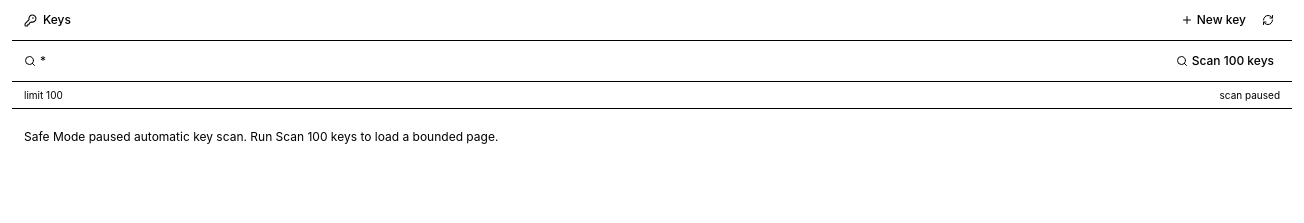
Test: KvSidebar › keeps loaded keys visible when loading the next SCAN cursor fails
Click the button "Scan 100 keys".
click(1225, 61)  # box [1170,49,1280,73]
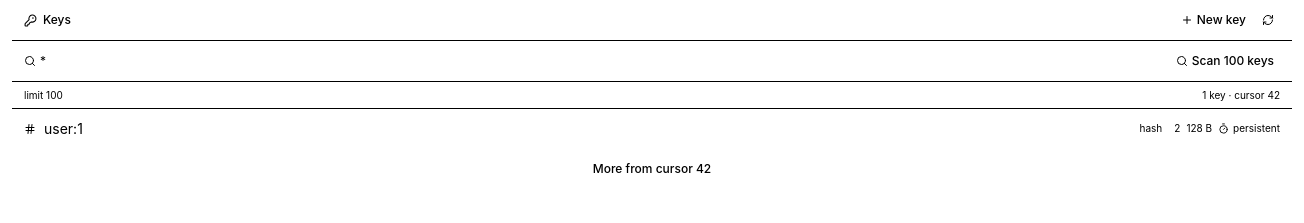
Now the text "user:1" is shown, box [44,120,83,137]
Click the button "More from cursor 42".
click(652, 169)  # box [24,157,1280,181]
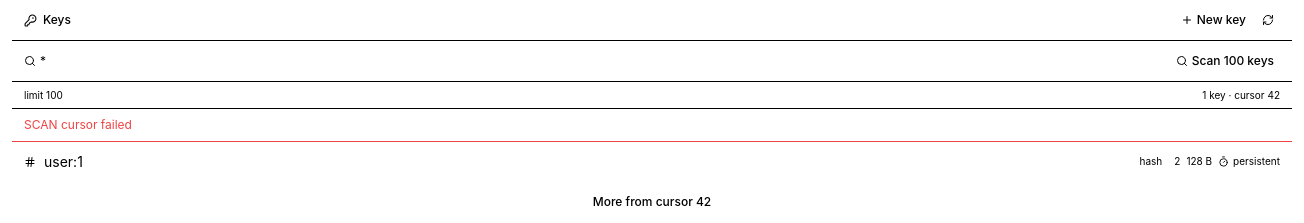
Now the text "user:1" is shown, box [44,153,83,170]
Now the element with test id "redis-scan-status" shows "1 key · cursor 42", box [1202,89,1280,101]
Now the message reads "SCAN cursor failed", box [24,117,132,132]
